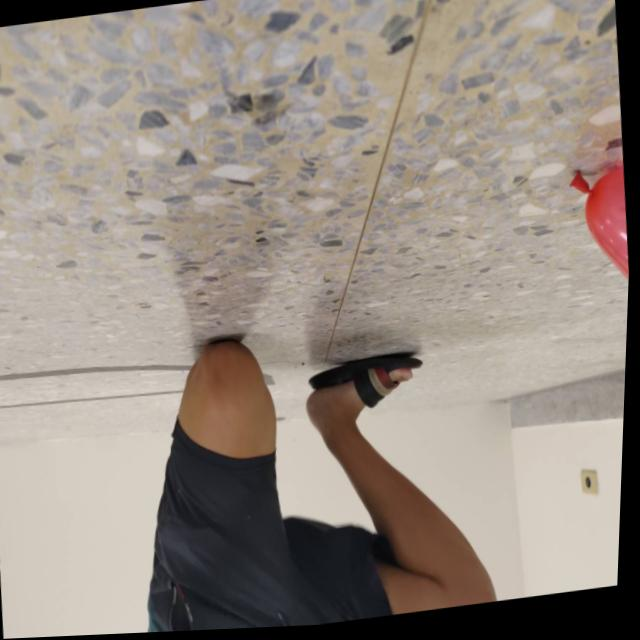red: (566, 169, 634, 314)
